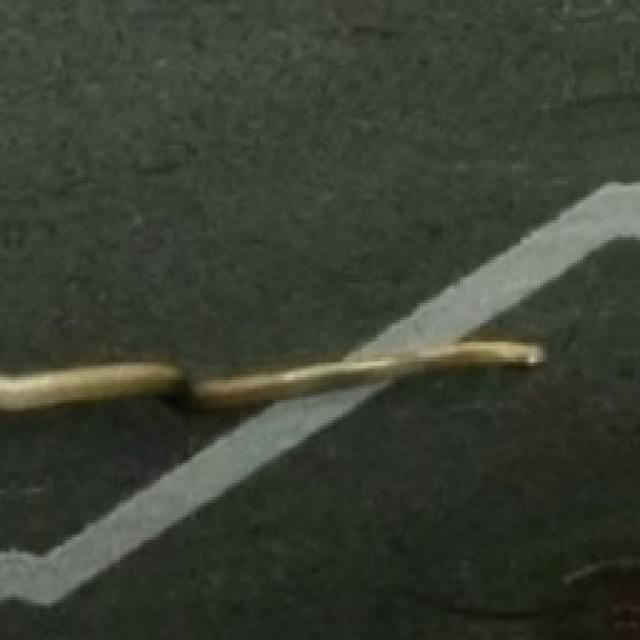king cobra: (0, 340, 543, 409)
